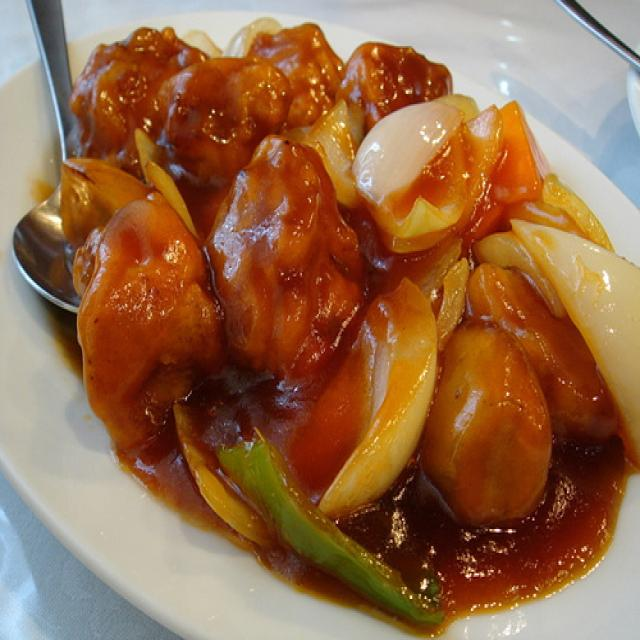猪肉菜式: (54, 13, 640, 624)
